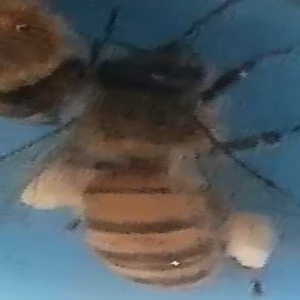bee: (92, 40, 293, 293)
